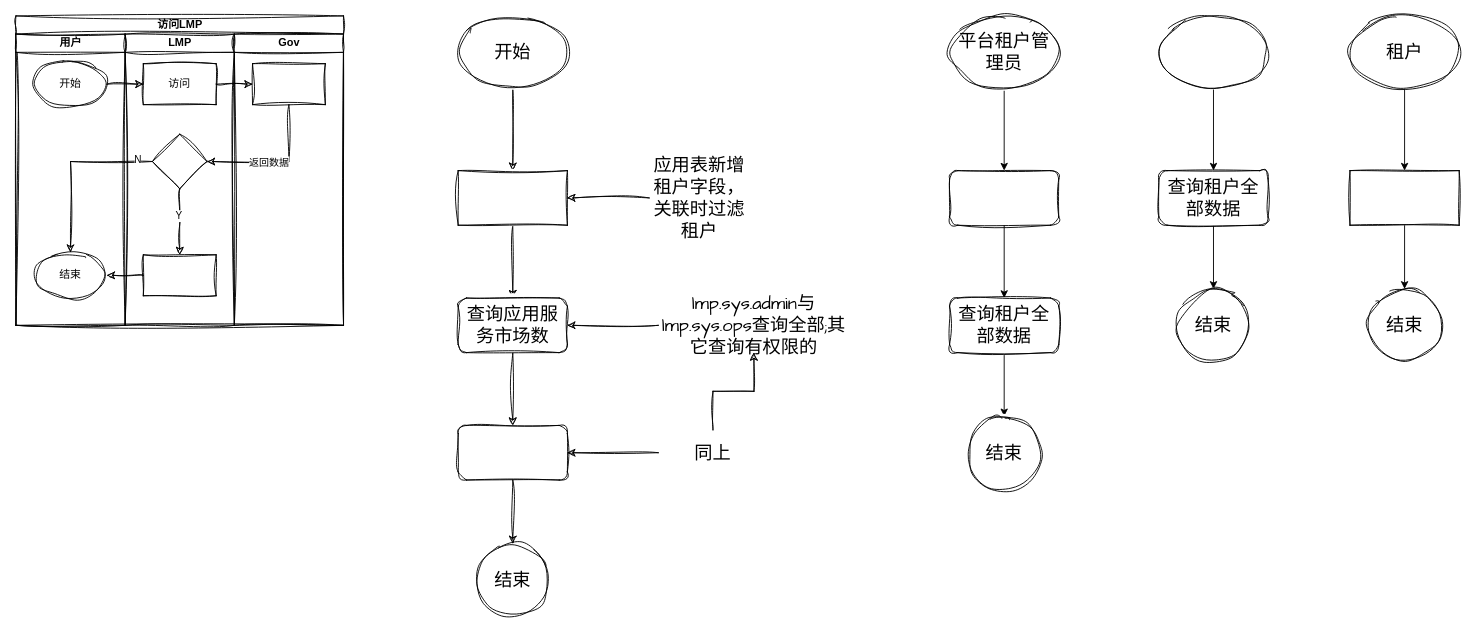
Image size: 1475x632. Some labels were removed from this diagram. Here are the shapes that lost their labels. From the top down, the centre of each, then its label:
At (x=1213, y=52): "租户管理员".
At (x=288, y=84): "验证".
At (x=179, y=161): "新用户".
At (x=512, y=197): "查询市场".
At (x=1004, y=197): "LMP平台选择租户".
At (x=1404, y=197): "查询租户下有权限的数据".
At (x=179, y=275): "写入sys-user".
At (x=512, y=452): "查询事务相关数".
